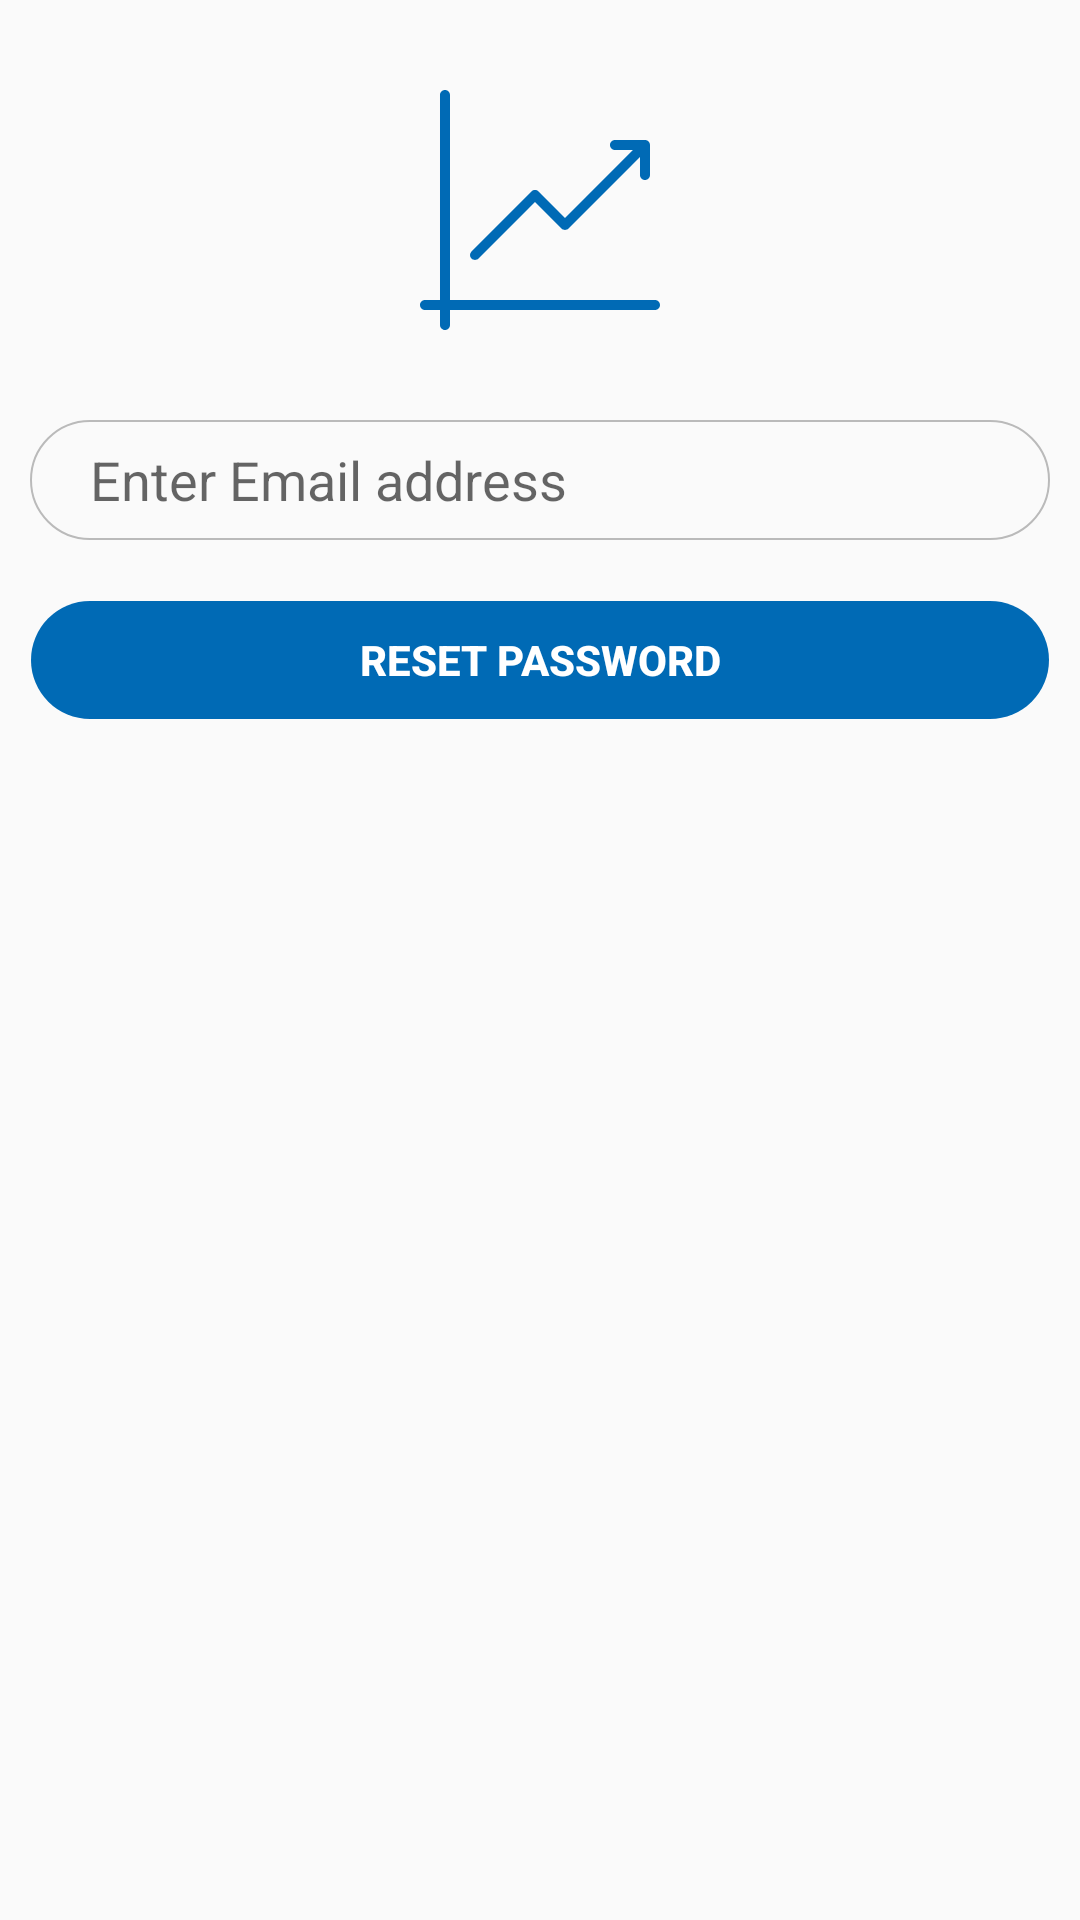

Point at icon controls on the screen. Image size 1080*1920, points as [x,y].
arrow chart: [540,210]
